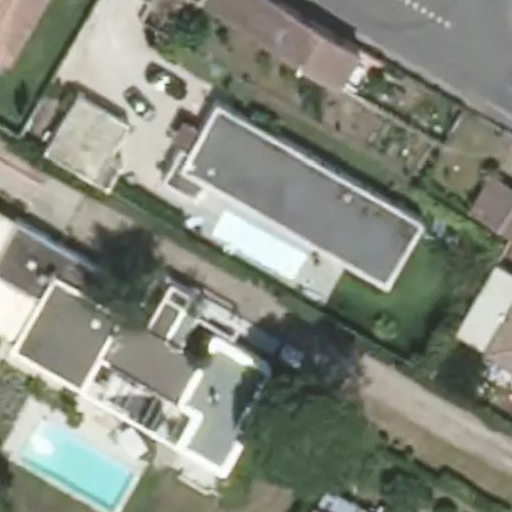pool: (212, 233, 299, 251)
